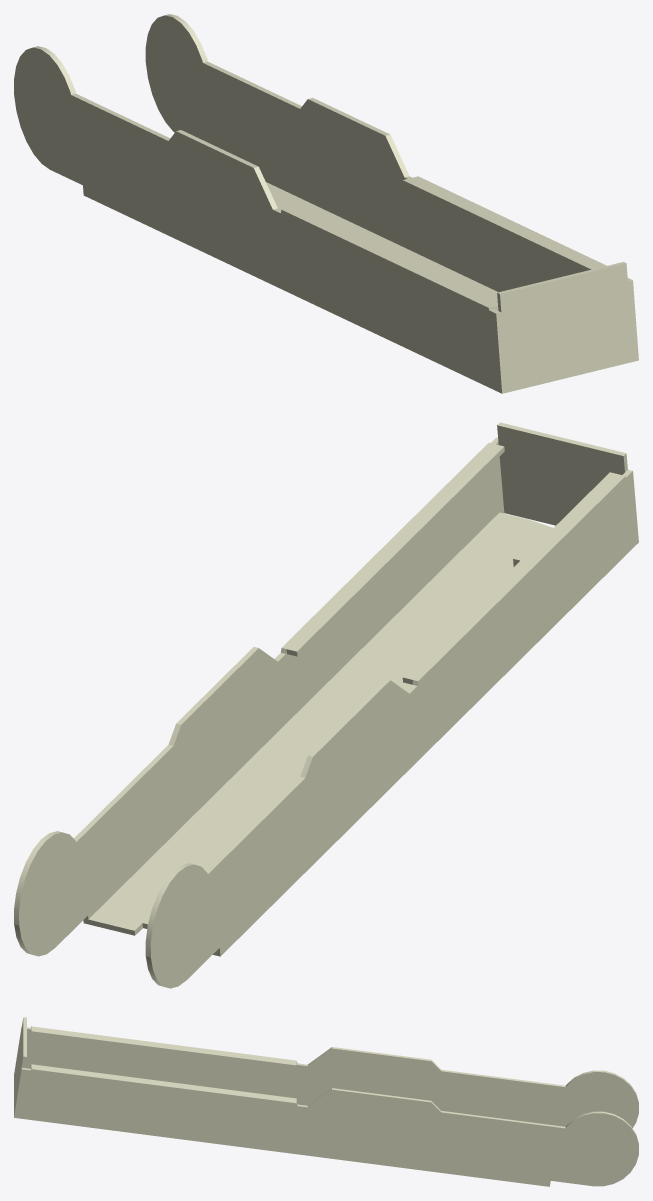
File: original-6.obj
3 views of the same model, one above another, from view 1: azimuth 30°, elevation 25°; view 2: azimuth 150°, elevation 25°; view 3: azimuth 270°, elevation 25° (orthographic). The views are drawn at different scales.
Parts seen in each view (by area): view 1: Group6/mesh16/mesh16-geometry#mesh16-geometry; view 2: Group6/mesh16/mesh16-geometry#mesh16-geometry; view 3: Group6/mesh16/mesh16-geometry#mesh16-geometry.
Part boxes in pixels (x1,y1,x2,y2): Group6/mesh16/mesh16-geometry#mesh16-geometry: (14, 14, 638, 393); Group6/mesh16/mesh16-geometry#mesh16-geometry: (14, 422, 638, 988); Group6/mesh16/mesh16-geometry#mesh16-geometry: (14, 1017, 638, 1186).
Size of the model in its own units: 0.2738 by 0.3847 by 1.69.
